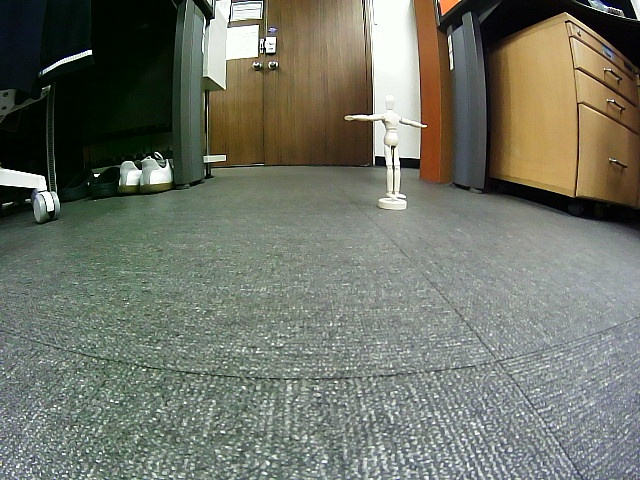person: (343, 95, 427, 201)
